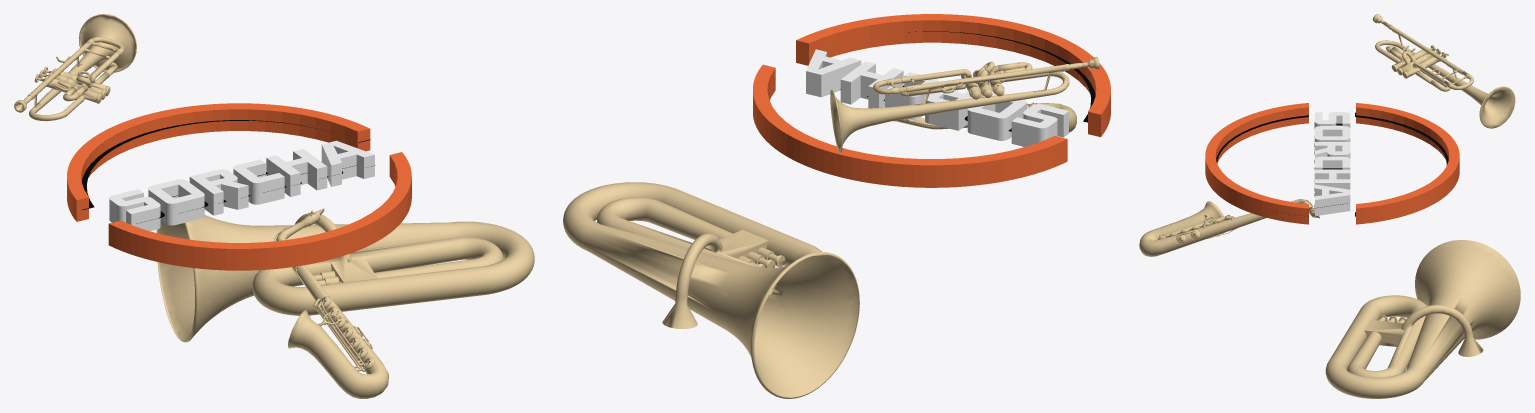
Rendered from Sorcha.glb.
3 views of the same model, side by side, from view 1: azimuth 30°, elevation 25°; view 2: azimuth 150°, elevation 25°; view 3: azimuth 270°, elevation 25° (orthographic). The views are drawn at different scales.
Visible parts, largest first — view 1: tuba, Plane.002, Plane.001, saxUpload, trumpet, Curve.005; view 2: tuba, Plane.002, Plane.001, trumpet, saxUpload, Curve.005; view 3: tuba, Plane.002, trumpet, Plane.001, saxUpload, Curve.005.
Part boxes in pixels (x1,y1,x2,y2): tuba: (156,212,534,342); Plane.002: (67,103,411,270); Plane.001: (109,140,374,231); saxUpload: (274,208,388,398); trumpet: (14,14,136,121); Curve.005: (81,120,411,223); tuba: (563,182,859,398); Plane.002: (753,14,1110,187); Plane.001: (806,49,1068,146); trumpet: (830,56,1099,153); saxUpload: (894,102,1076,146); Curve.005: (768,31,1095,131); tuba: (1325,240,1520,398); Plane.002: (1205,103,1459,224); trumpet: (1372,14,1515,128); Plane.001: (1314,112,1350,216); saxUpload: (1139,199,1319,256); Curve.005: (1216,112,1448,216).
Bounding box in the file's own units: 12.48 × 7.81 × 10.97.
